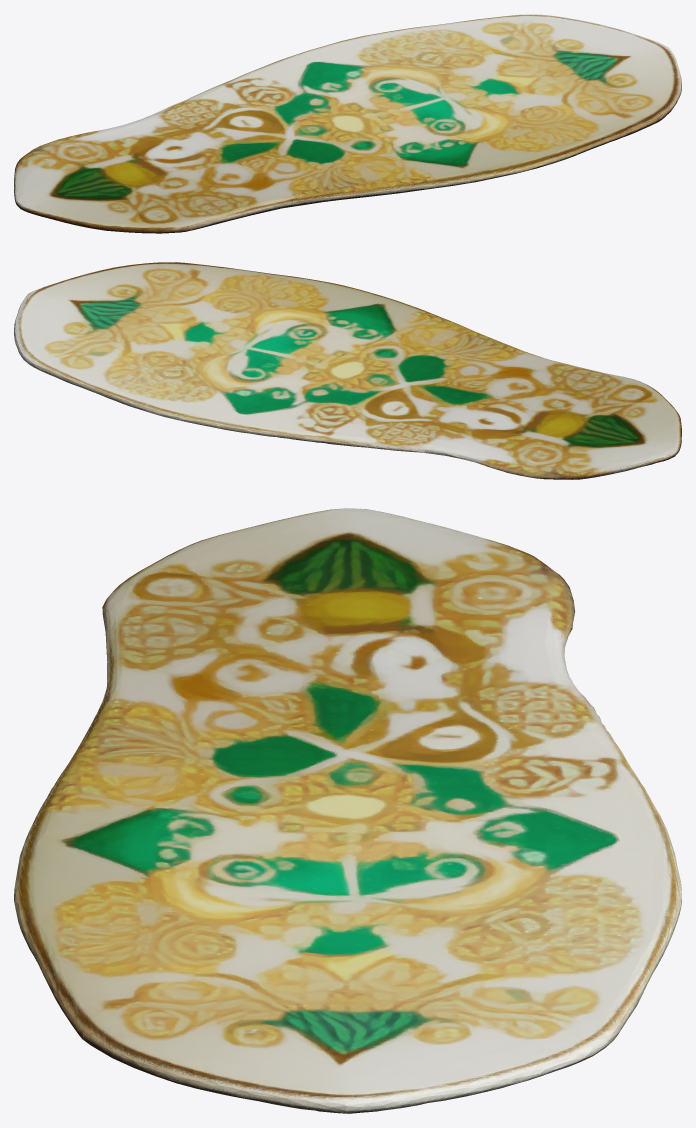
File: porcelain-letter-opener-art-deco.jpeg.glb
The picture shows the model from 3 angles, top to bottom: view 1: azimuth 30°, elevation 25°; view 2: azimuth 150°, elevation 25°; view 3: azimuth 270°, elevation 25°; orthographic projection. The views are drawn at different scales.
Visible parts, largest first — view 1: world; view 2: world; view 3: world.
Part boxes in pixels (x1=…): world: x1=14, y1=14, x2=681, y2=233; world: x1=14, y1=262, x2=681, y2=479; world: x1=14, y1=508, x2=681, y2=1113.
Bounding box in the file's own units: 0.9981 × 0.0153 × 0.4709.
Materials: 1 (1 with a texture image).
